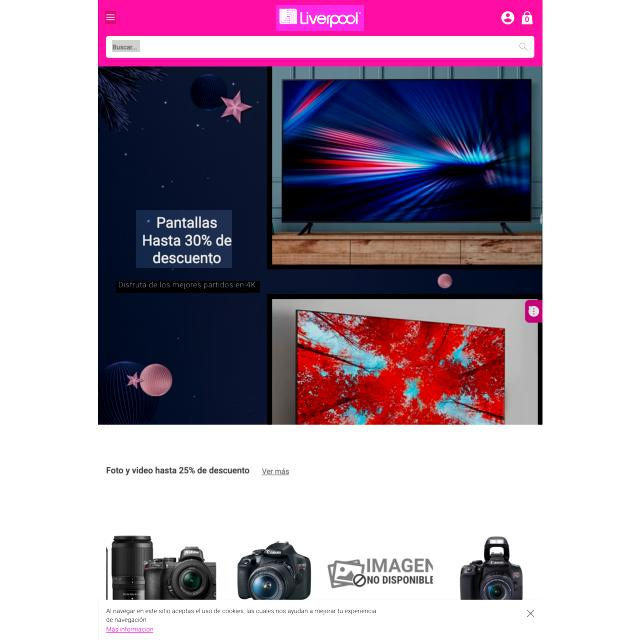CheckedTextView: (106, 35, 535, 58)
Input field: (116, 282, 260, 294)
bag: (99, 0, 542, 67)
card: (98, 66, 542, 425)
carousel: (521, 10, 535, 26), (501, 10, 515, 24), (518, 40, 530, 52)
date picker: (276, 5, 364, 31)
decoration: (105, 11, 116, 24)
footer: (112, 41, 140, 52)
header: (99, 600, 543, 640)
image: (136, 210, 232, 268)
